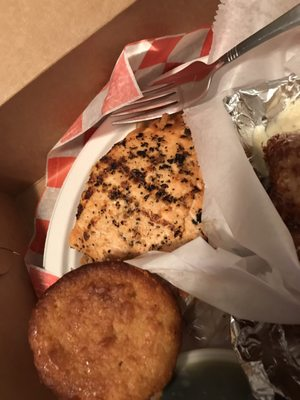burger: (48, 3, 300, 159)
